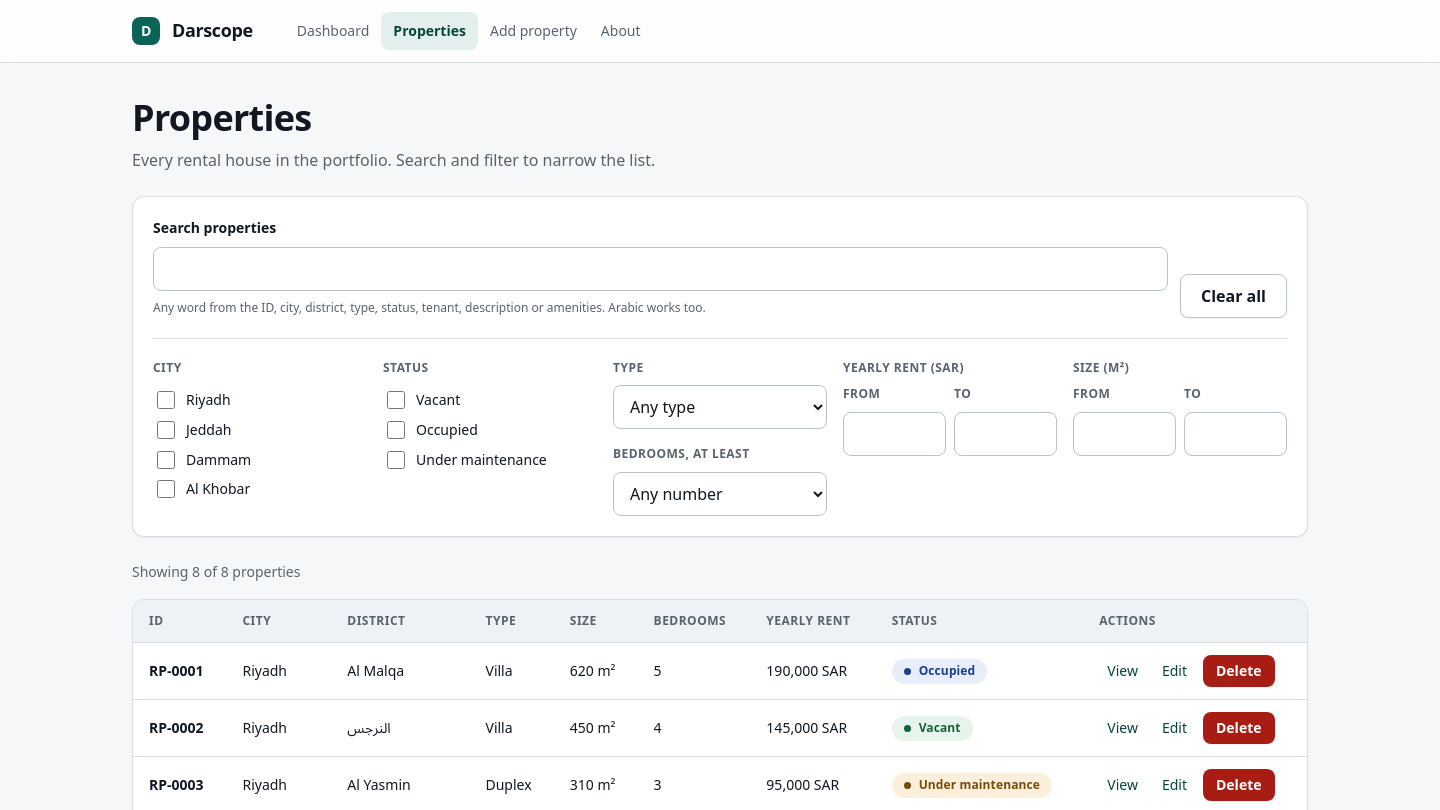
Test: AC-13 a range the wrong way round (FR-SRC-07) › explains the problem and leaves the list alone
In the field labelled "From" below "Yearly rent (SAR)": (894, 434) 843,412 -> 946,456, type "200000"
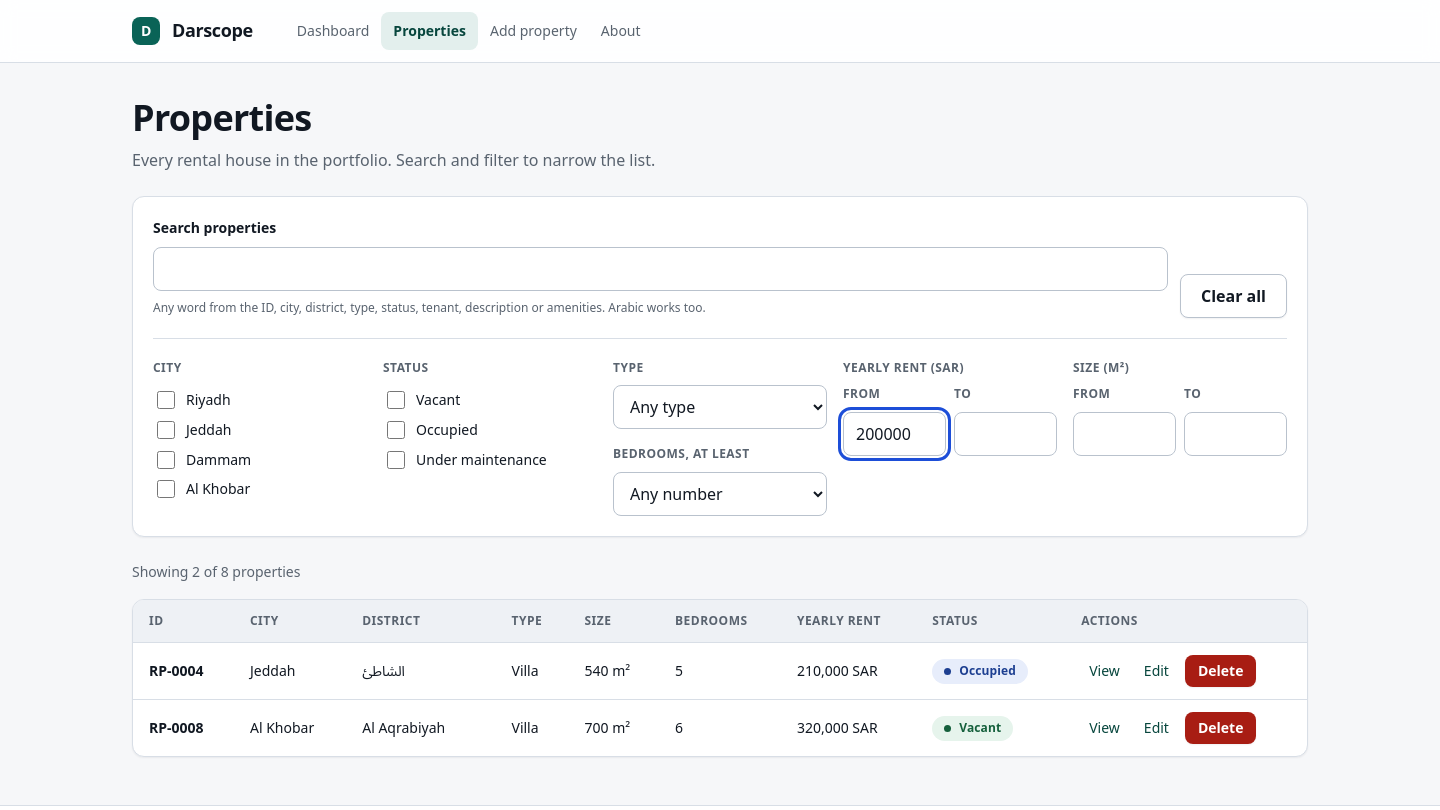
In the field labelled "To" below "Yearly rent (SAR)": (1006, 434) 954,412 -> 1057,456, type "100000"
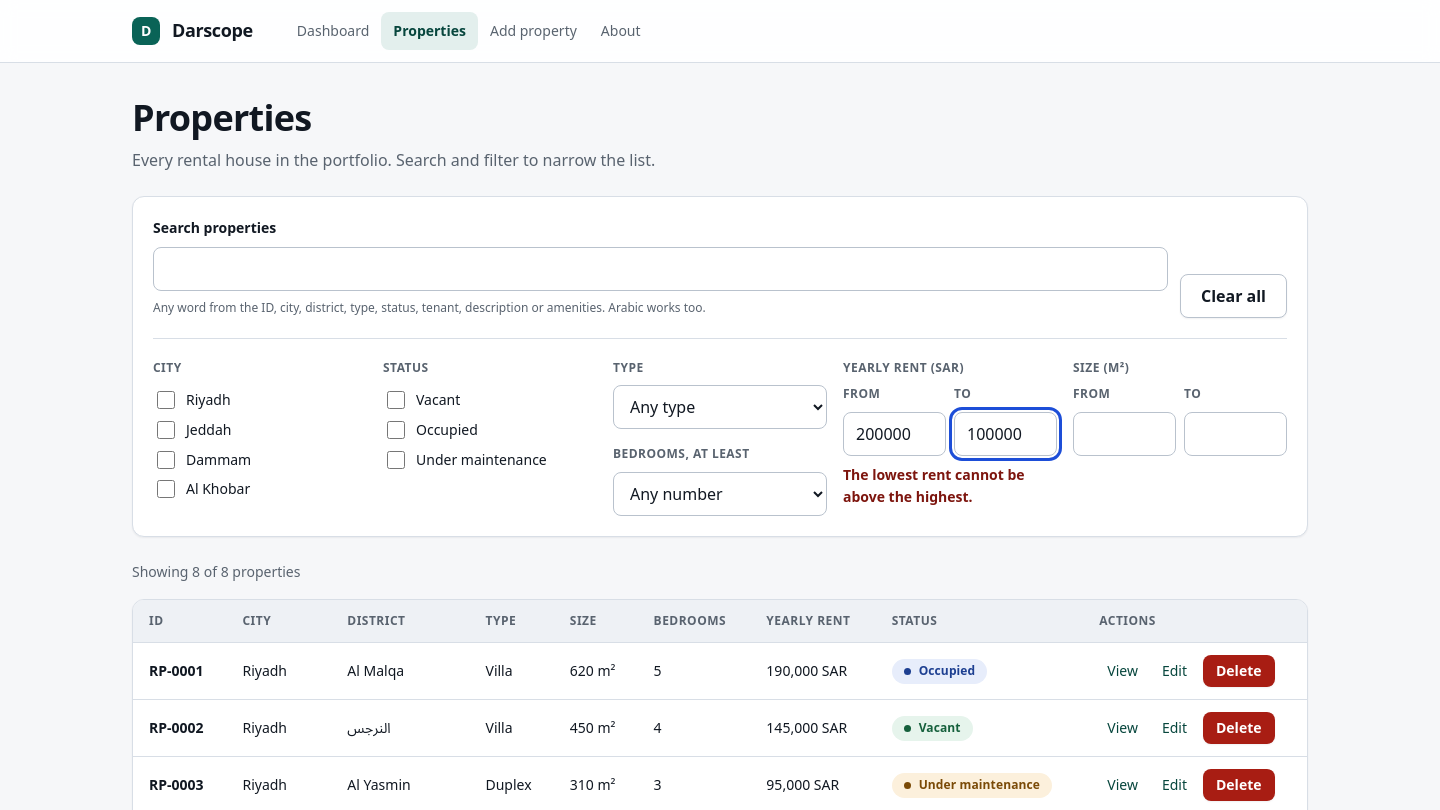
Expected: the text "The lowest rent cannot be above the highest." is shown, 843,465 -> 1025,506
